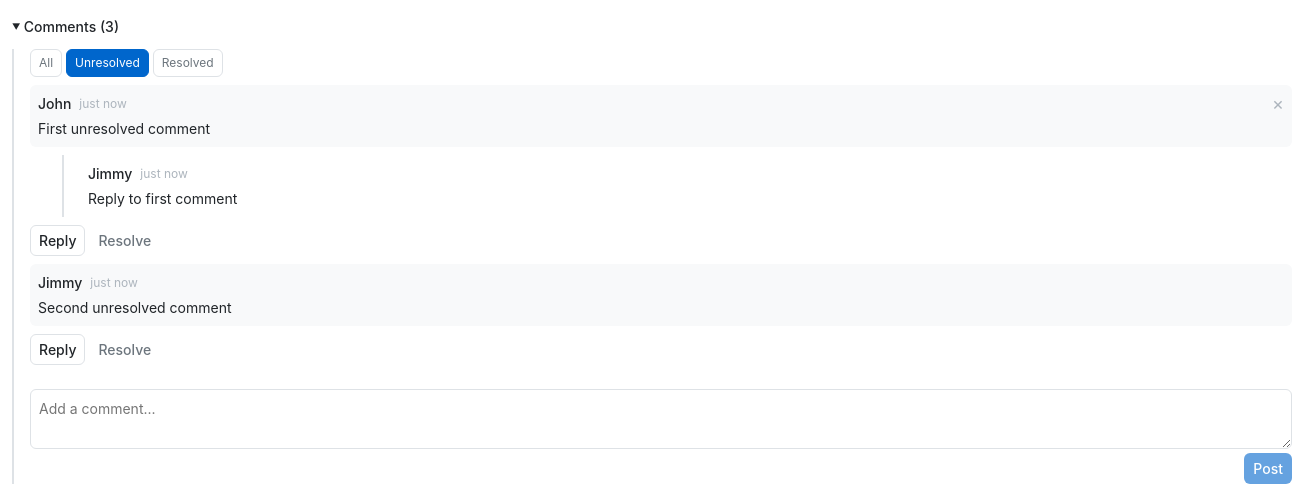
Test: CommentsSection › filtering › should show only resolved comments when 'Resolved' filter is selected
Click the button "Resolved": (188, 63) [153,49,223,77]
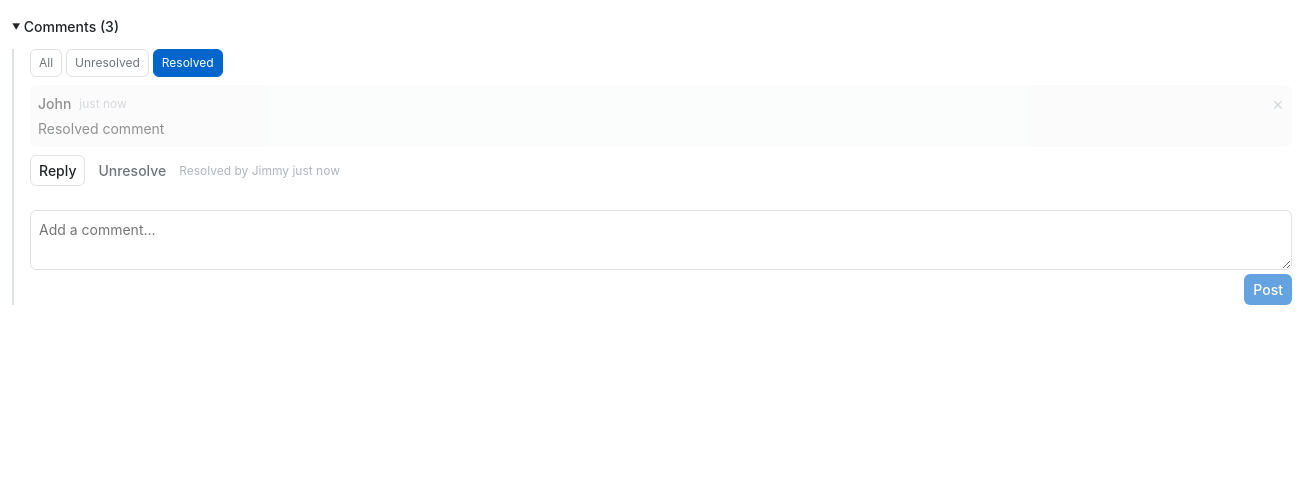
Expected: the text "Resolved comment" is shown, [38,120,164,137]
Now the text "First unresolved comment" is gone
Now the text "Second unresolved comment" is gone
